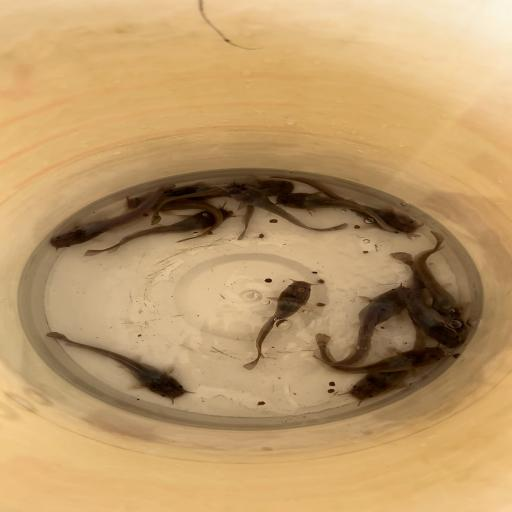lele: (43, 330, 191, 401), (268, 174, 420, 234), (48, 182, 176, 250), (315, 285, 415, 367), (83, 207, 233, 258), (388, 252, 463, 348), (275, 192, 421, 240), (145, 178, 294, 225), (348, 317, 430, 402), (242, 279, 316, 371), (221, 180, 349, 233), (312, 332, 450, 375), (411, 230, 469, 332), (163, 181, 255, 240), (123, 196, 225, 243)
